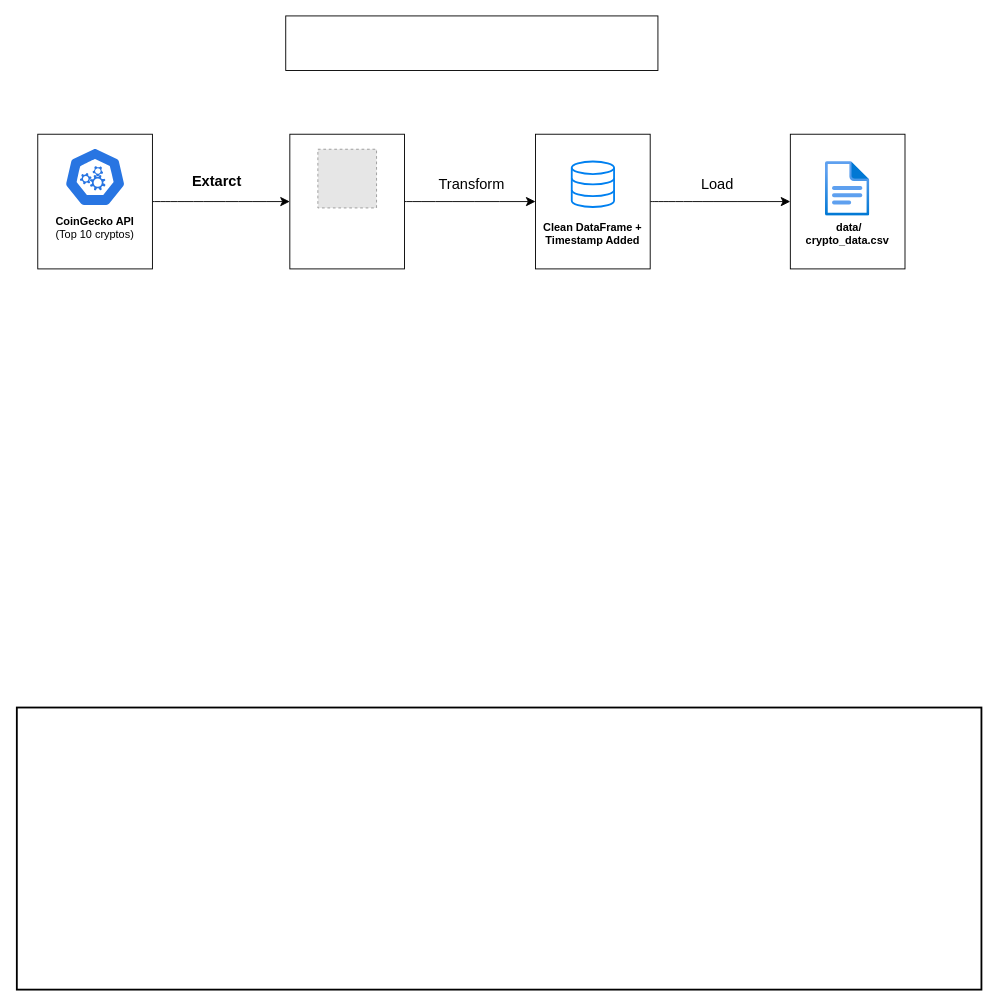
This 997x1006 diagram has some shape labels left out. Grey dashed boxes stand in for pictures. Here are the shapes that lost their labels. From the top down, the box of each, then its label:
(285, 15, 658, 71): Data architecture of Crypto ETL Price
(289, 133, 404, 269): Raw JSON Data
